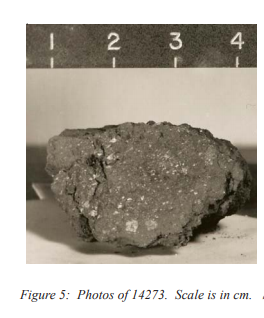Breccia: (43, 96, 251, 246)
